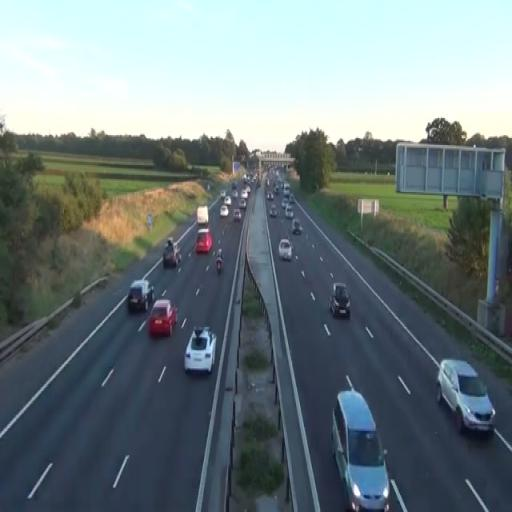Car: (331, 388, 391, 511), (435, 358, 496, 437), (184, 325, 216, 375), (149, 299, 178, 337), (128, 278, 154, 312), (328, 283, 351, 319), (162, 238, 182, 268), (196, 227, 213, 254), (278, 239, 293, 262), (285, 205, 294, 219)
